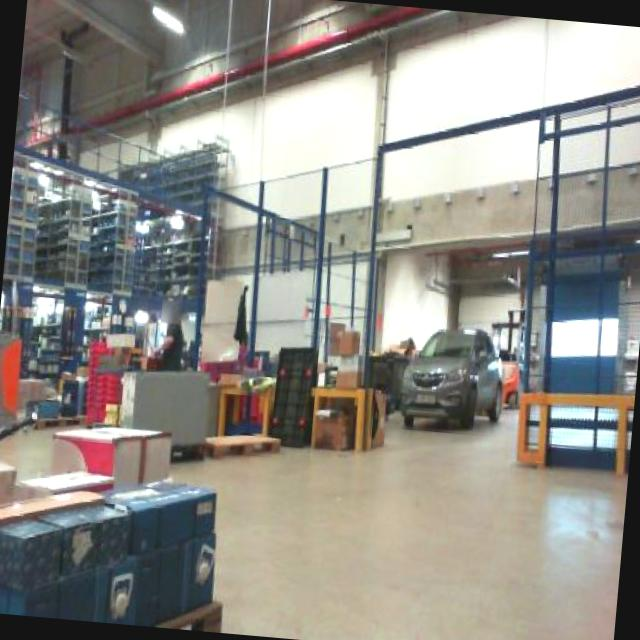pallet: (208, 428, 286, 464)
